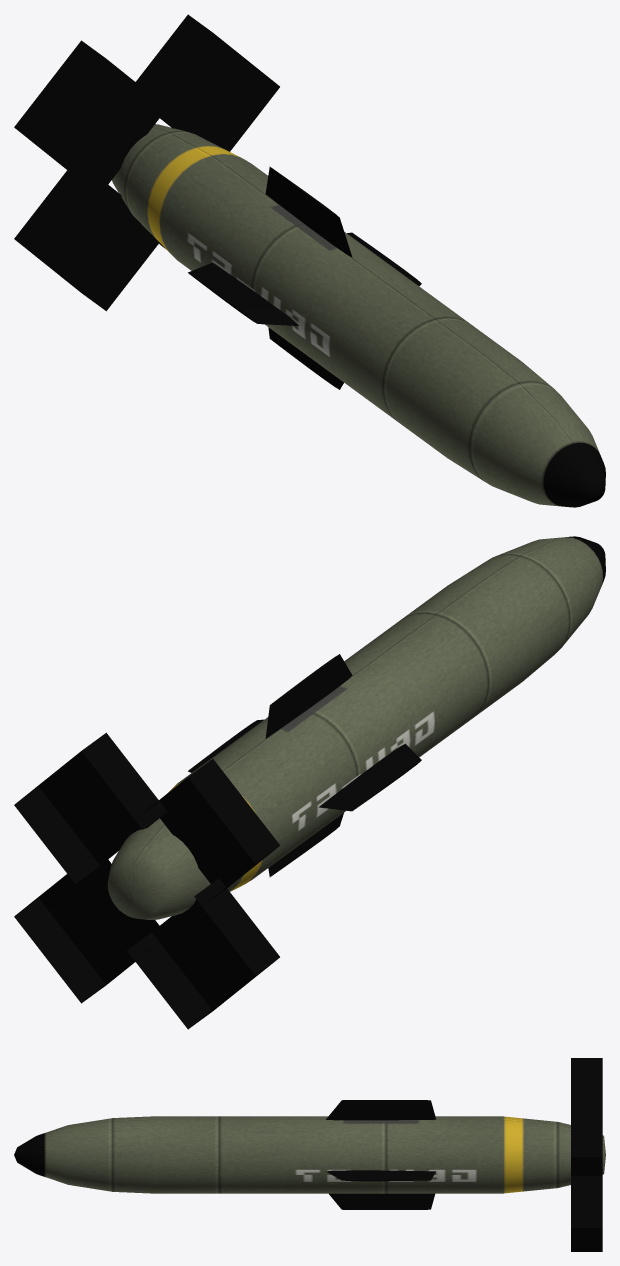
Rendered from bomb_body.obj.
The picture shows the model from 3 angles, top to bottom: view 1: azimuth 30°, elevation 25°; view 2: azimuth 150°, elevation 25°; view 3: azimuth 270°, elevation 25°; orthographic projection. The views are drawn at different scales.
Size of the model in its own units: 2.79 by 2.79 by 9.3.
